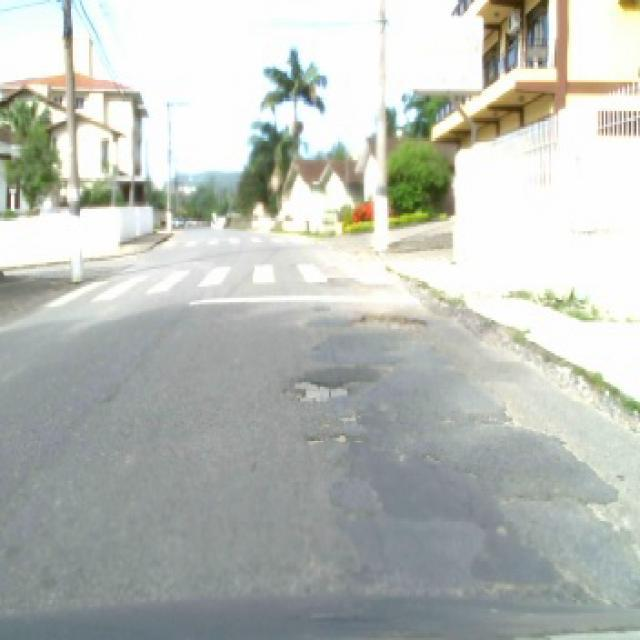Poth-hole: (492, 391, 632, 538), (278, 371, 356, 402), (342, 309, 429, 329), (302, 426, 366, 444)
